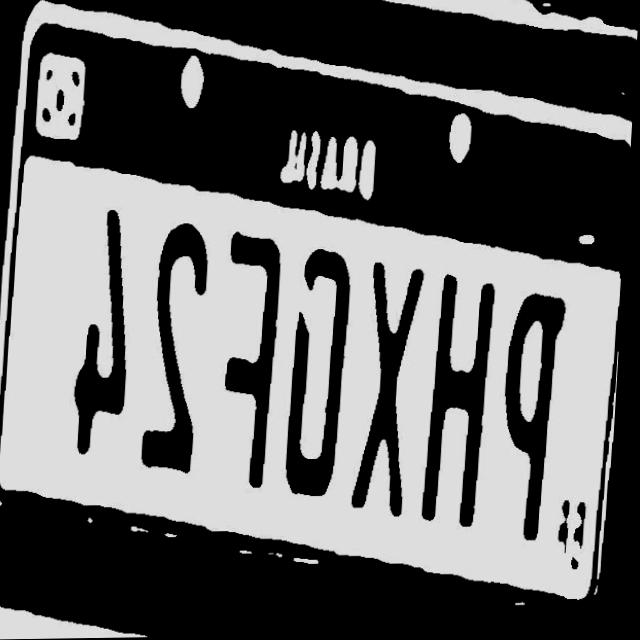0: (284, 248, 360, 499)
2: (140, 220, 221, 475)
4: (71, 206, 147, 461)
f: (222, 228, 290, 492)
h: (421, 272, 506, 529)
p: (498, 294, 575, 553)
x: (351, 256, 429, 519)
